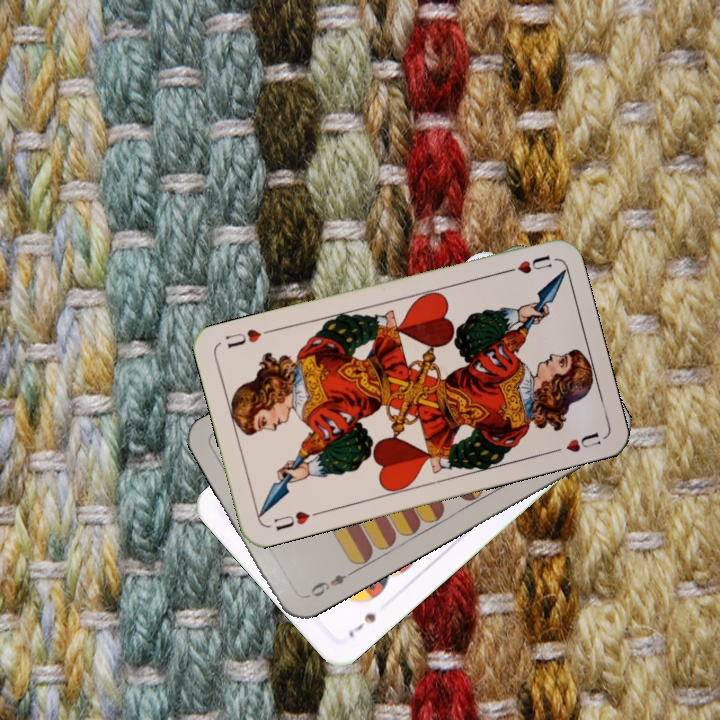E9: (300, 567, 356, 601)
HU: (269, 507, 323, 534), (498, 251, 554, 277)
S7: (344, 609, 379, 640)
